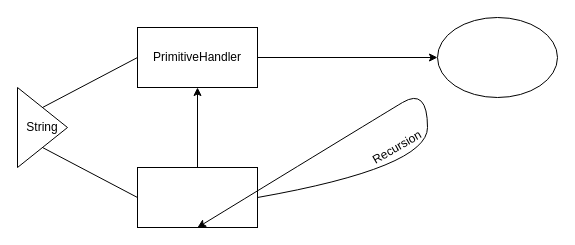
This 575x245 diagram has some shape labels left out. Here are the shapes that lost their labels. From the top down, the centre of each, then its label:
At [497,57]: "Output".
At [197,197]: "ObjectHandler".
